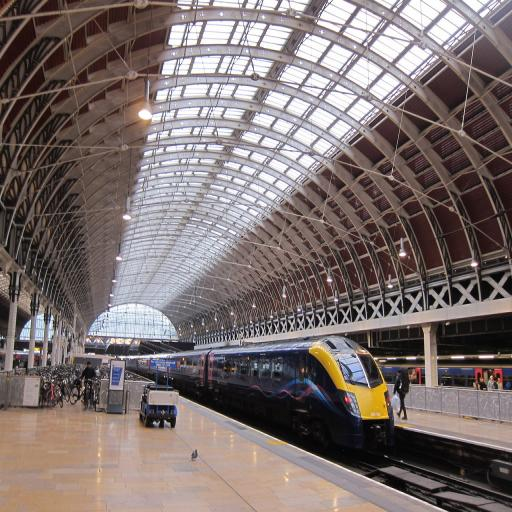platform_edge: (188, 404, 454, 512)
